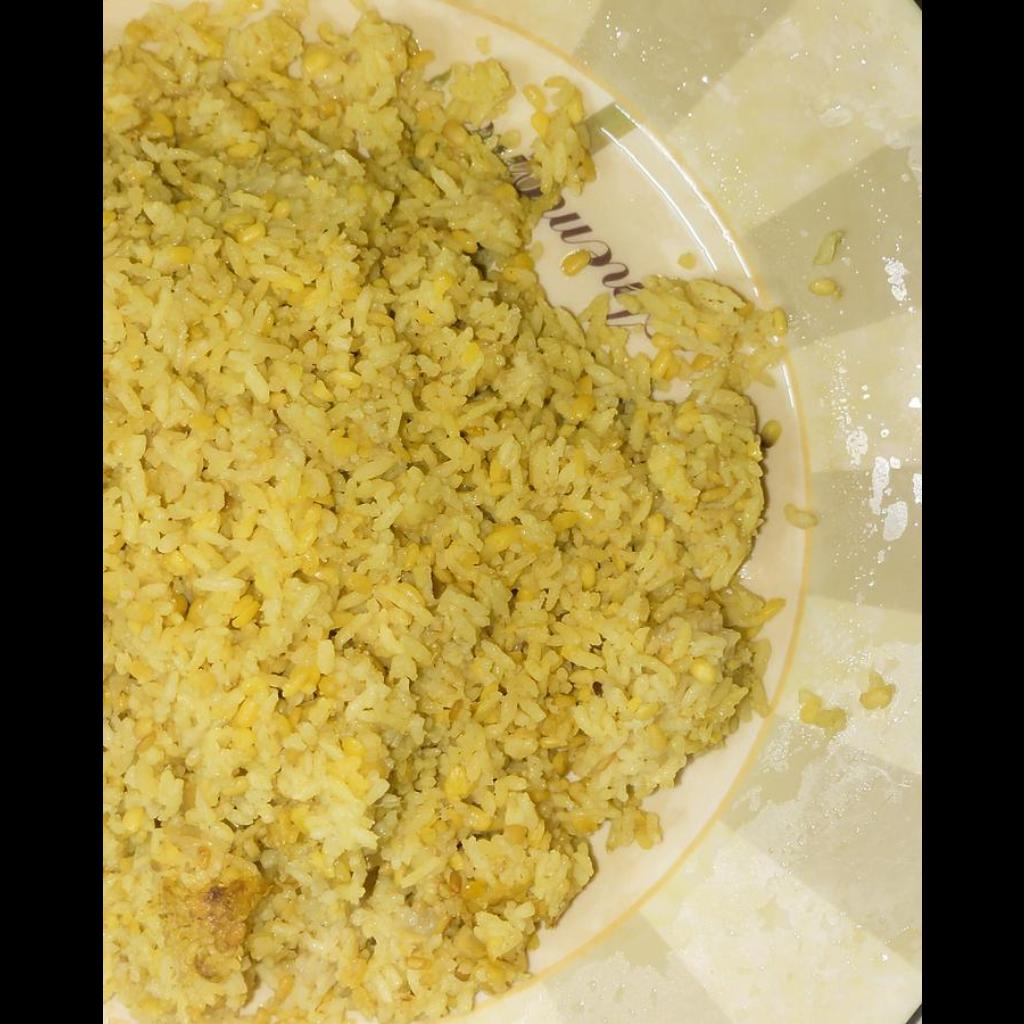khichuri: (102, 0, 788, 1020)
